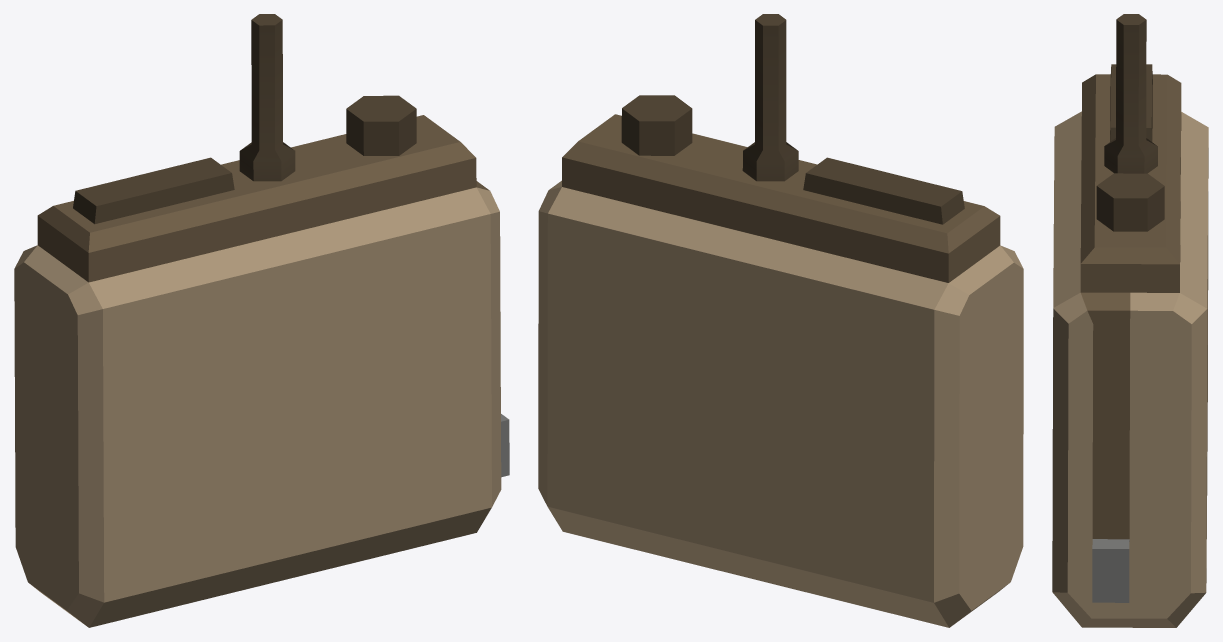
The model's file is SM_Chr_Attach_Pouch_09.fbx.
The picture shows the model from 3 angles, left to right: view 1: azimuth 30°, elevation 25°; view 2: azimuth 150°, elevation 25°; view 3: azimuth 270°, elevation 25°; orthographic projection. The views are drawn at different scales.
Visible parts, largest first — view 1: SM_Chr_Attach_Pouch_09; view 2: SM_Chr_Attach_Pouch_09; view 3: SM_Chr_Attach_Pouch_09.
Part boxes in pixels (x1,y1,x2,y2): SM_Chr_Attach_Pouch_09: [14, 14, 509, 627]; SM_Chr_Attach_Pouch_09: [538, 14, 1023, 627]; SM_Chr_Attach_Pouch_09: [1052, 14, 1208, 627].
Size of the model in its own units: 23.29 by 27.14 by 7.36.
